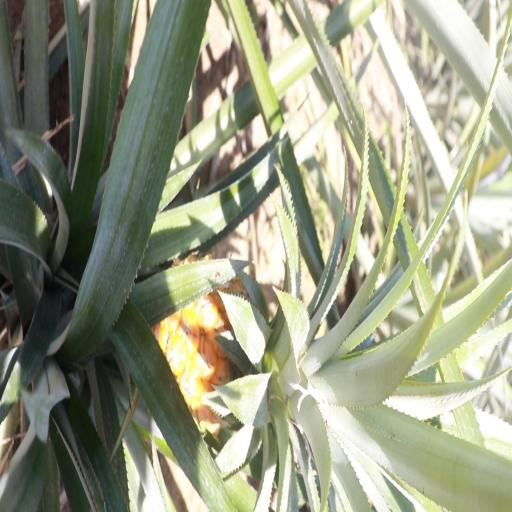Pineapple - v8 v1: (150, 259, 409, 467)
